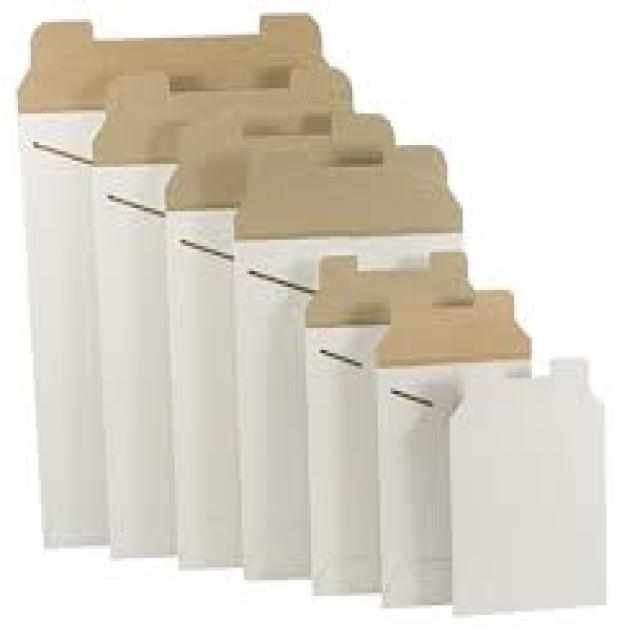cardboard: (18, 10, 319, 546), (90, 63, 352, 558), (162, 108, 396, 565), (232, 142, 458, 580), (303, 252, 473, 593), (370, 287, 530, 602), (447, 357, 604, 609)
